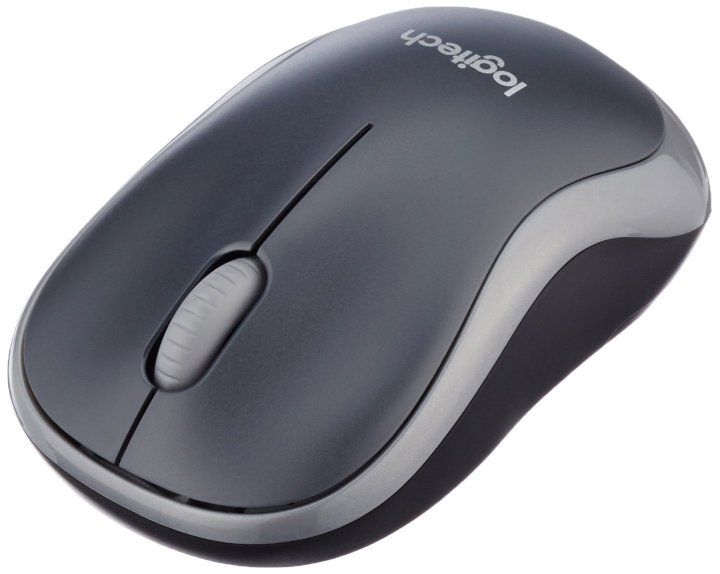logitech-mouse-m185: (1, 1, 717, 571)
